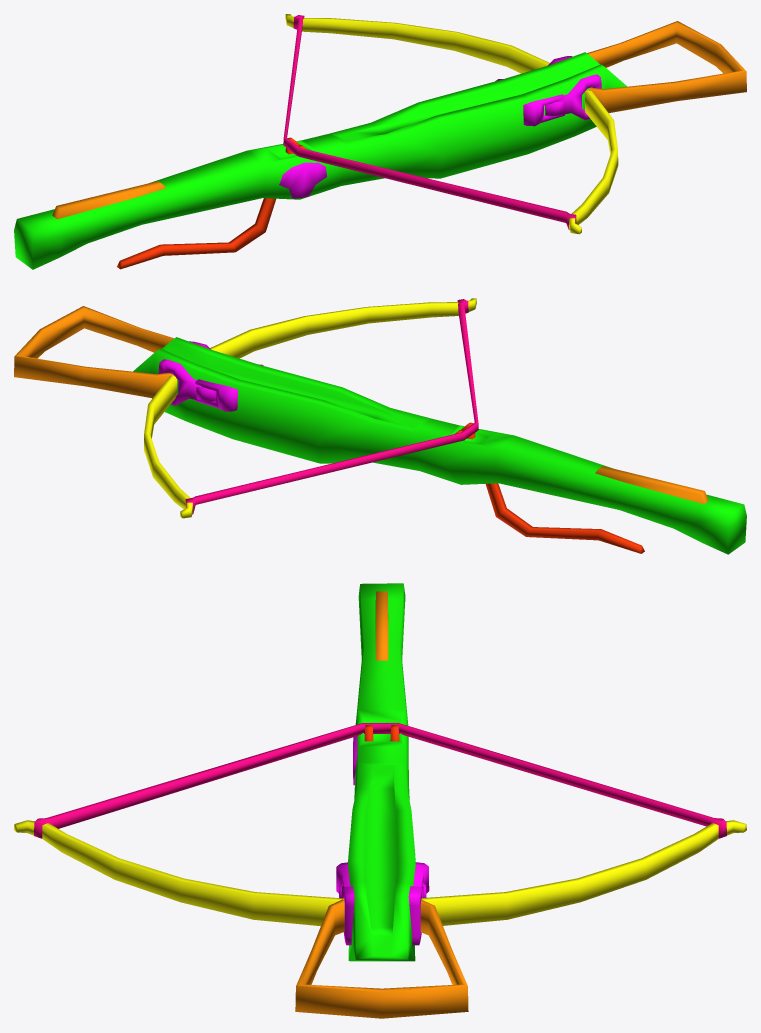
Rendered from Crossbow.fbx.
3 renders of one model, top to bottom at view 1: azimuth 30°, elevation 25°; view 2: azimuth 150°, elevation 25°; view 3: azimuth 270°, elevation 25°, orthographic. The views are drawn at different scales.
Visible parts, largest first — view 1: Crossbow; view 2: Crossbow; view 3: Crossbow.
Part boxes in pixels (left/top/right/bottom): Crossbow: left=14, top=14, right=746, bottom=269; Crossbow: left=14, top=298, right=746, bottom=554; Crossbow: left=14, top=583, right=746, bottom=1018.
Size of the model in its own units: 8840 by 1246 by 6451.
1 material, 1 textured.
